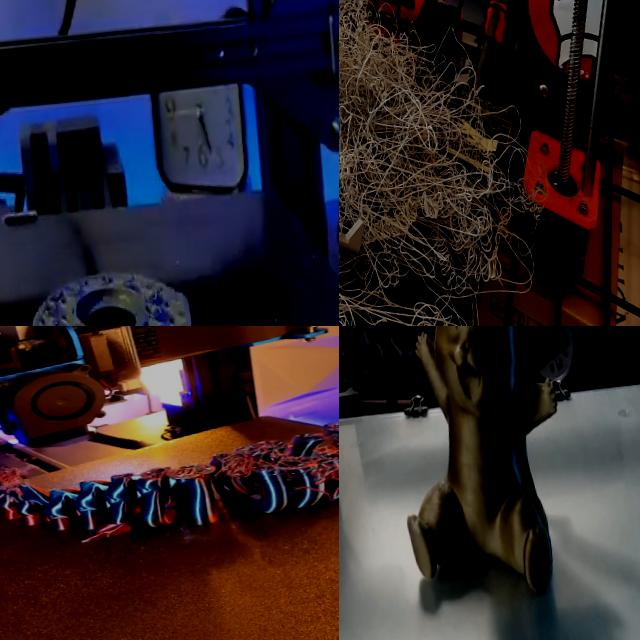spaghetti: (339, 0, 551, 326), (178, 413, 339, 521)
